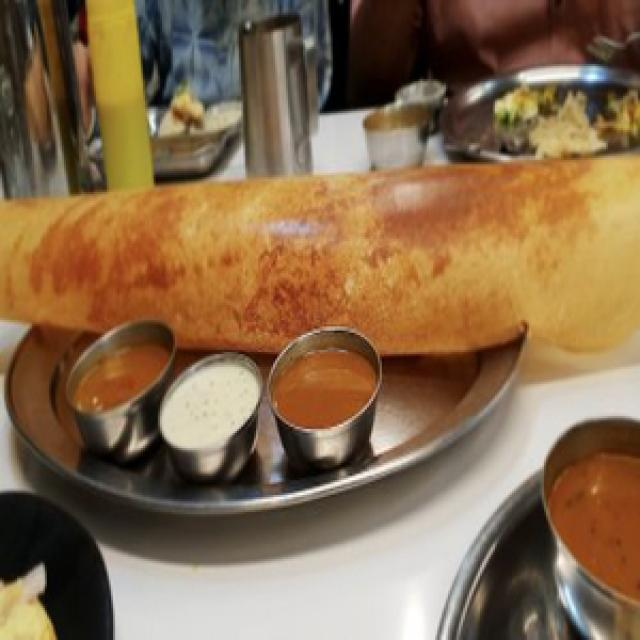dosa: (0, 138, 640, 382)
